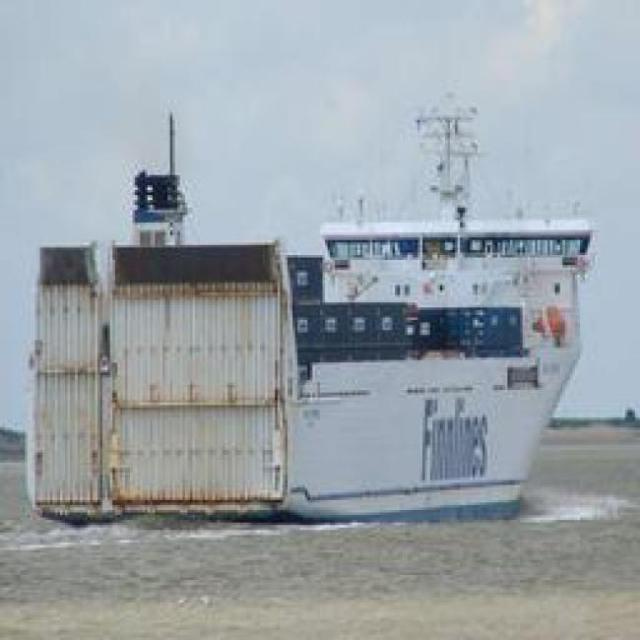boat: (23, 179, 600, 545)
